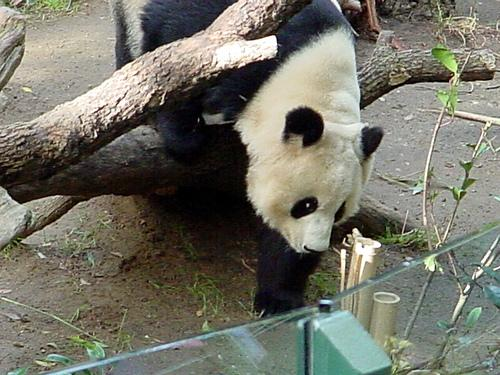panda: (157, 0, 383, 315), (113, 0, 233, 67)
